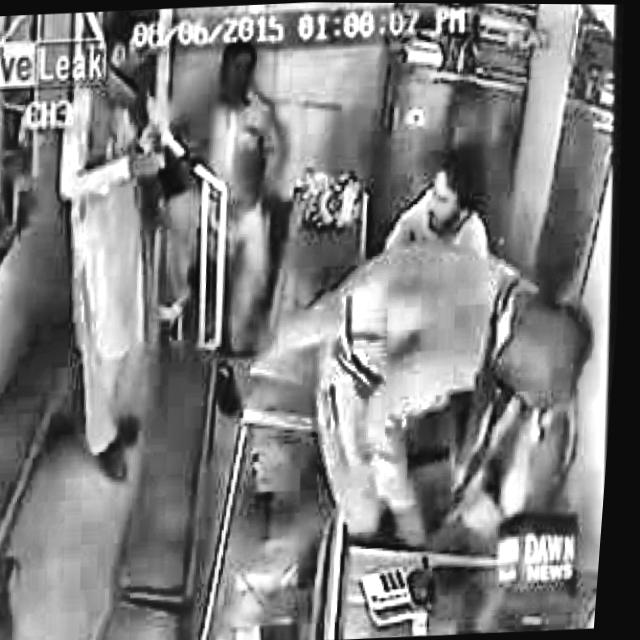robbery: (255, 226, 616, 557), (35, 5, 245, 491)
